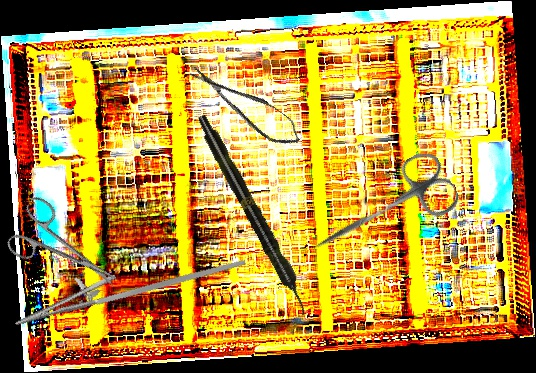Handpiece: (192, 111, 315, 319)
Iris Scissors: (301, 146, 464, 278), (0, 193, 132, 311)
Micro Scissor: (185, 55, 307, 155)
Needle Holder: (7, 215, 247, 354)
